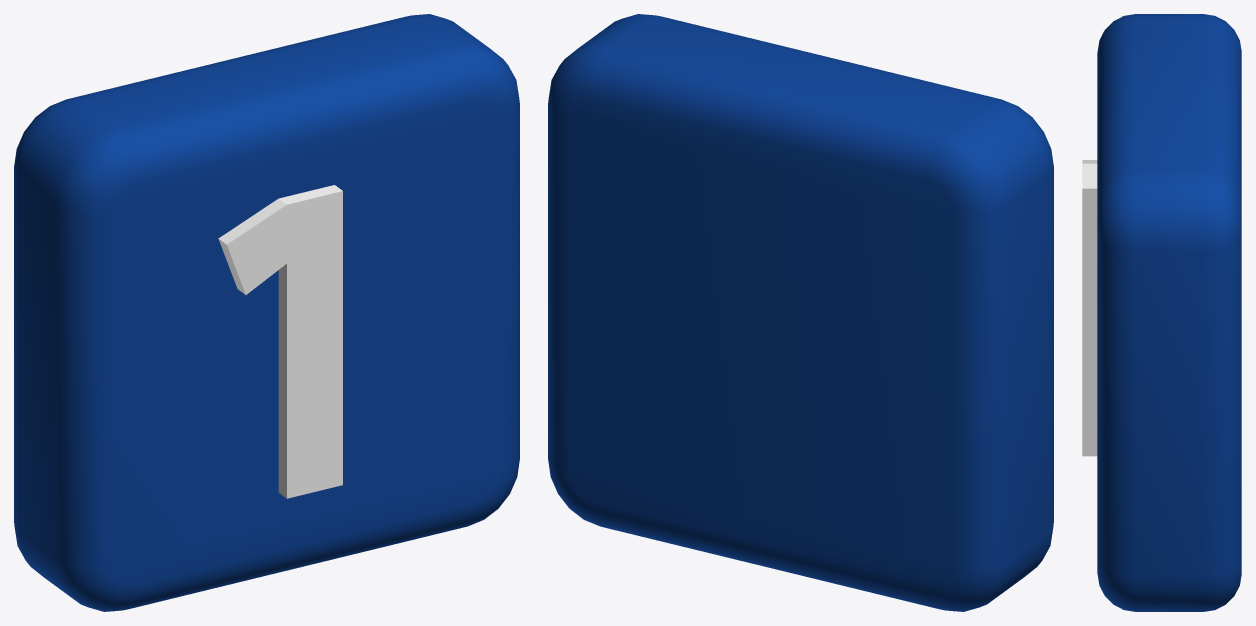
The model's file is keycap_1.glb.
The picture shows the model from 3 angles, left to right: view 1: azimuth 30°, elevation 25°; view 2: azimuth 150°, elevation 25°; view 3: azimuth 270°, elevation 25°; orthographic projection. The views are drawn at different scales.
Visible parts, largest first — view 1: Cube.6579; view 2: Cube.6579; view 3: Cube.6579.
Boxes of the visible parts, x1,y1,x2,y2 form: Cube.6579: (14, 14, 519, 611); Cube.6579: (548, 14, 1053, 611); Cube.6579: (1082, 14, 1241, 611).
Size of the model in its own units: 2.2 by 2.2 by 0.73.
1 material, 1 textured.
